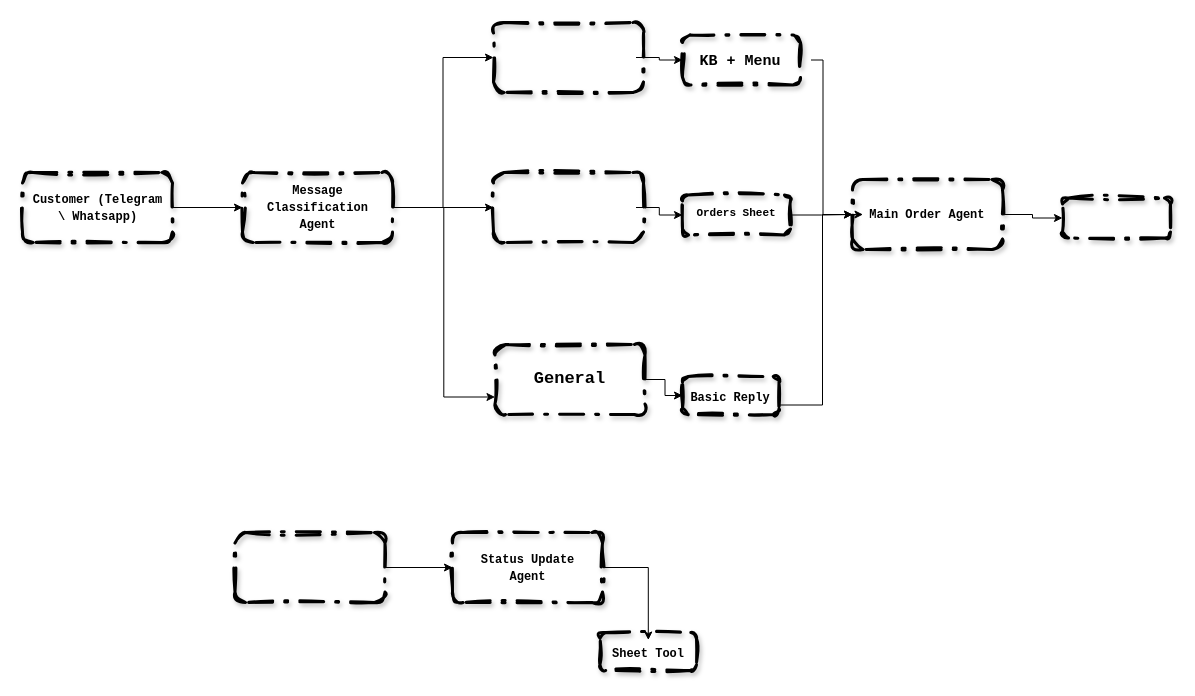
Some shapes in this 1195 by 696 pixel diagram are drawn without their labels. The shapes that lost their labels are listed below. From the top down, each one's centre as x and y in pixels, then its label:
At point 569,58: "Questions".
At point 569,208: "Orders".
At point 1117,219: "Telegram Reply".
At point 310,568: "Staff Notification (Telegram \ Whatsapp)".
